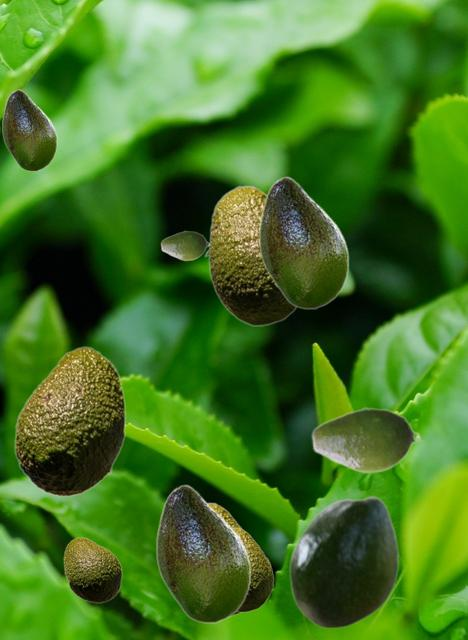avocado: (14, 346, 124, 496), (288, 495, 398, 628), (204, 185, 297, 325), (156, 484, 250, 622), (259, 176, 348, 308), (310, 406, 420, 473), (2, 89, 56, 170), (209, 502, 243, 616), (63, 537, 121, 602), (234, 527, 273, 611), (160, 230, 208, 260)
